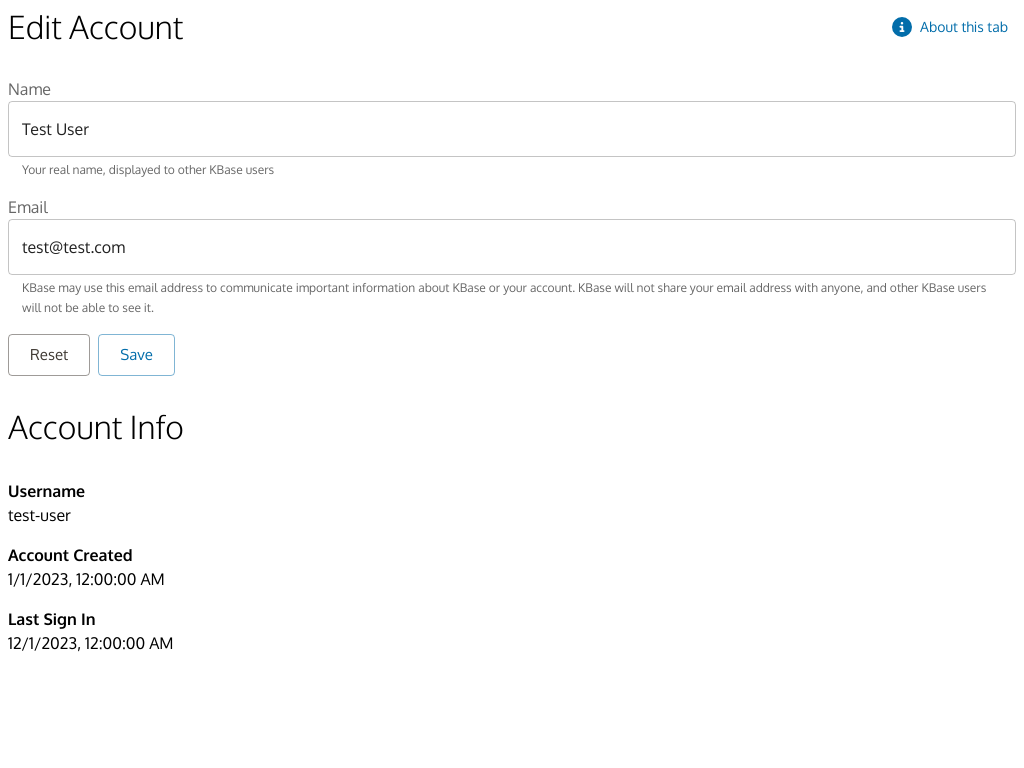
AccountInfo Component › displays tooltip content when hovering over About button
The width and height of the screenshot is (1024, 768).
Hover over the button "About this tab".
mouse_move(952, 27)  # box [888, 8, 1016, 46]
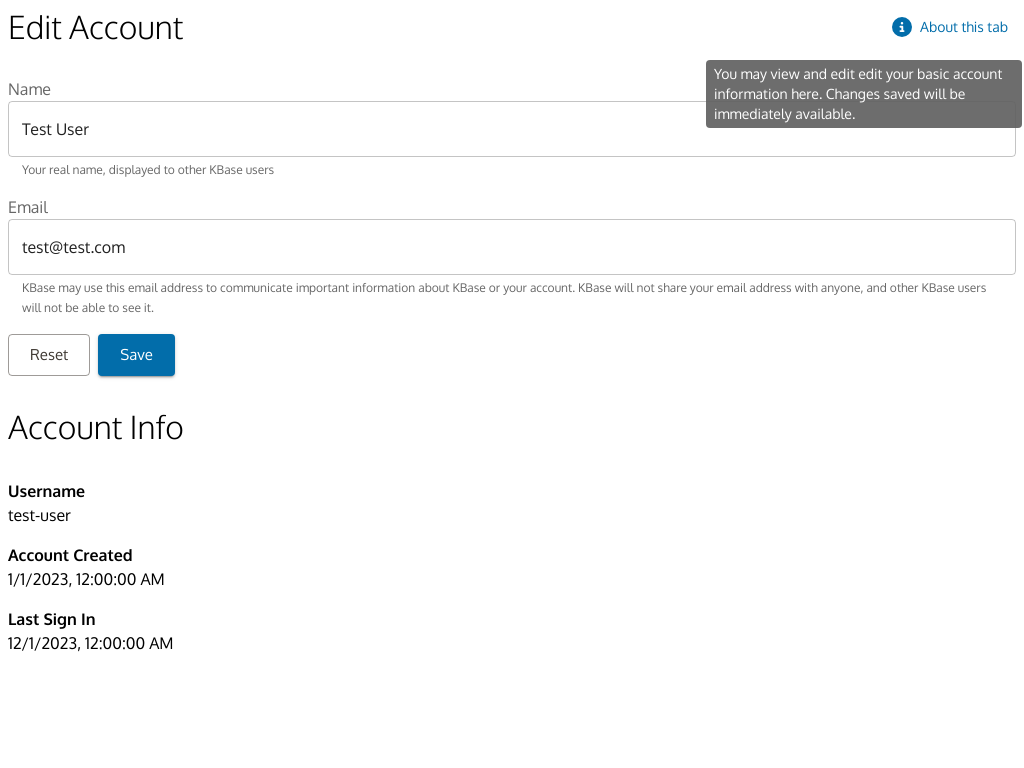
Expected: the text "You may view and edit edit your basic account information here" is shown, [714, 65, 1002, 122]
